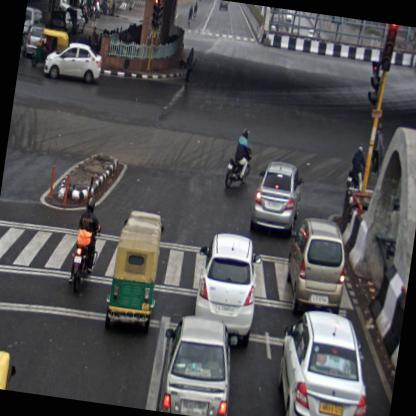car: (270, 306, 382, 415), (155, 312, 242, 415), (188, 229, 263, 348), (280, 213, 351, 319), (249, 158, 306, 240), (42, 38, 104, 86), (21, 24, 45, 61), (22, 4, 46, 40), (48, 10, 74, 38), (65, 6, 87, 34), (218, 0, 230, 12)
motorcycle: (66, 194, 102, 296), (223, 124, 255, 192), (344, 143, 368, 192)
